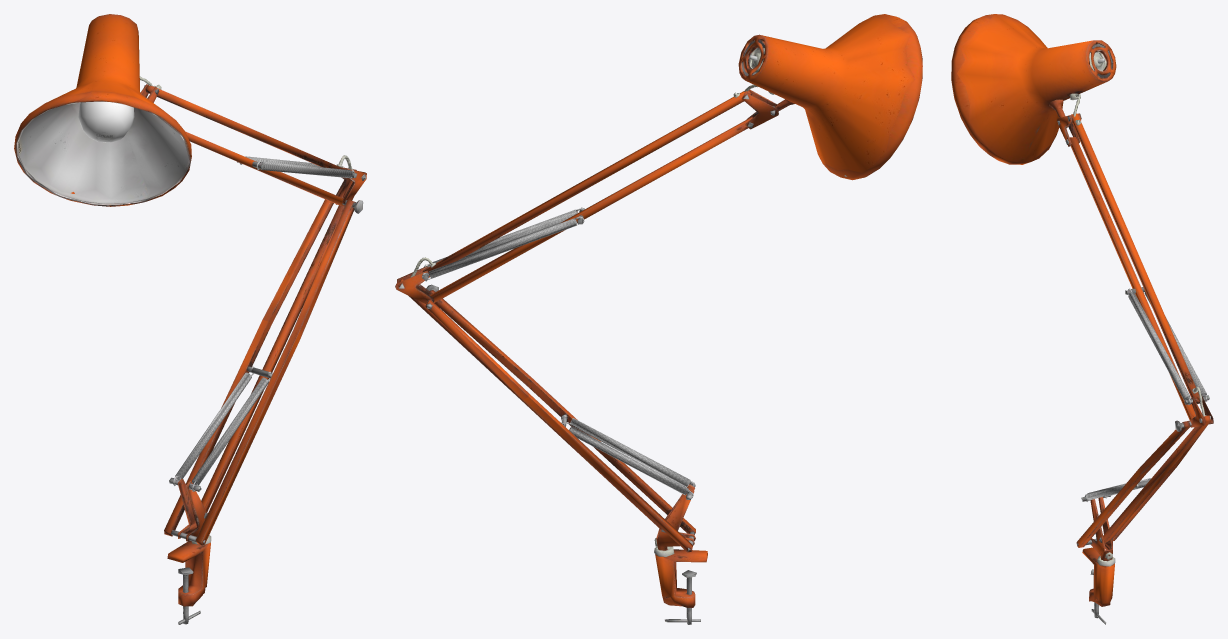
File: desk_lamp_arm_01.fbx
The picture shows the model from 3 angles, left to right: view 1: azimuth 30°, elevation 25°; view 2: azimuth 150°, elevation 25°; view 3: azimuth 270°, elevation 25°; orthographic projection. The views are drawn at different scales.
Visible parts, largest first — view 1: desk_lamp_arm_01_LOD0; view 2: desk_lamp_arm_01_LOD0; view 3: desk_lamp_arm_01_LOD0.
Boxes of the visible parts, x1,y1,x2,y2 form: desk_lamp_arm_01_LOD0: [14, 14, 366, 624]; desk_lamp_arm_01_LOD0: [395, 14, 922, 624]; desk_lamp_arm_01_LOD0: [951, 14, 1213, 624].
Size of what is drawn, in the model's own units: 59.83 by 80.66 by 35.23.
Materials: 2 (2 with a texture image).
